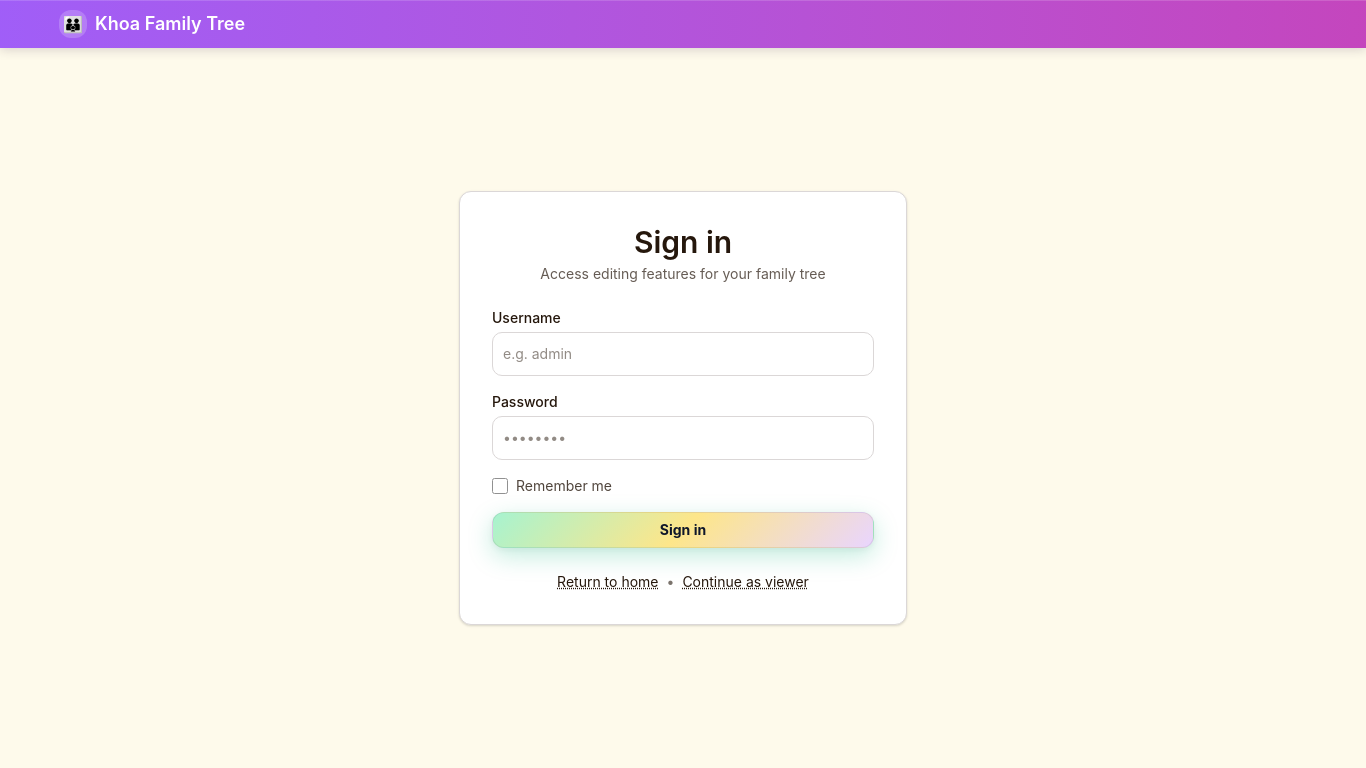
Test case: LoginPageV2 › Error Handling › displays error for 400 status (bad request)
Click the button "Sign in" at (683, 530), box top-left (492, 512), bottom-right (874, 548)
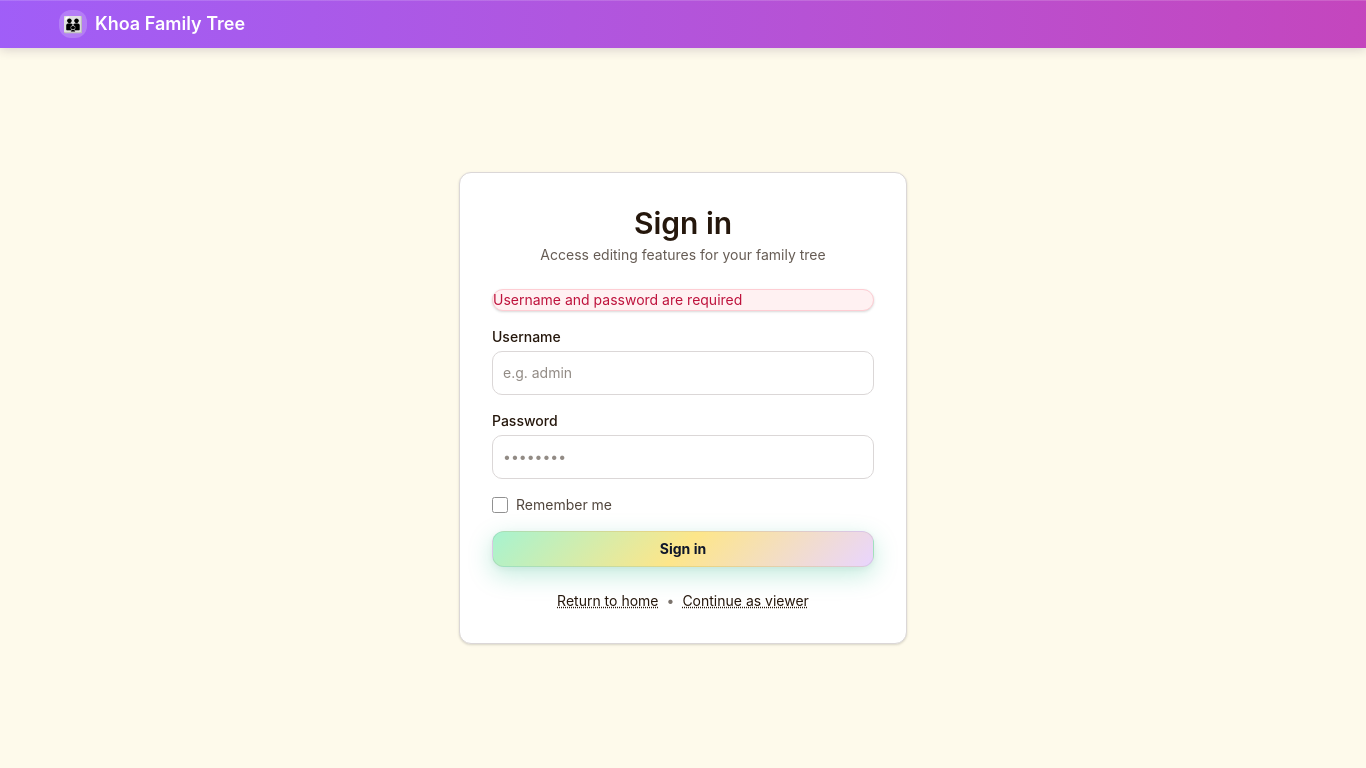
Expected: the text "Username and password are required" is shown, top-left (492, 289), bottom-right (874, 311)
